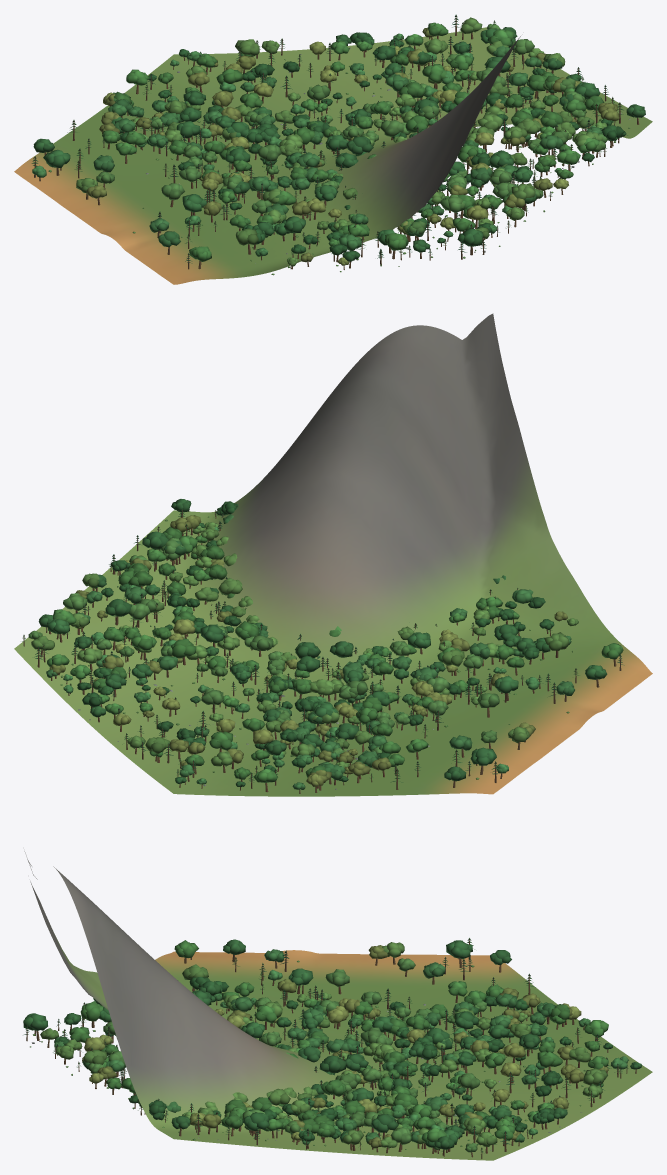
3 views of the same model, one above another, from view 1: azimuth 30°, elevation 25°; view 2: azimuth 150°, elevation 25°; view 3: azimuth 270°, elevation 25° (orthographic).
Parts seen in each view (by area): view 1: broadleaf_canopy, terrain, trunks, conifer_canopy; view 2: terrain, broadleaf_canopy, trunks, conifer_canopy; view 3: terrain, broadleaf_canopy, trunks, conifer_canopy.
Part boxes in pixels (x1,y1,x2,y2): broadleaf_canopy: (32, 17, 645, 266); terrain: (14, 27, 652, 284); trunks: (34, 15, 639, 269); conifer_canopy: (31, 14, 623, 263); terrain: (14, 313, 652, 796); broadleaf_canopy: (28, 499, 623, 789); trunks: (23, 506, 621, 793); conifer_canopy: (22, 505, 624, 782); terrain: (24, 851, 652, 1160); broadleaf_canopy: (23, 939, 641, 1152); trunks: (26, 939, 636, 1158); conifer_canopy: (24, 938, 628, 1153).
Bounding box in the file's own units: 4330 × 2177 × 5000.
